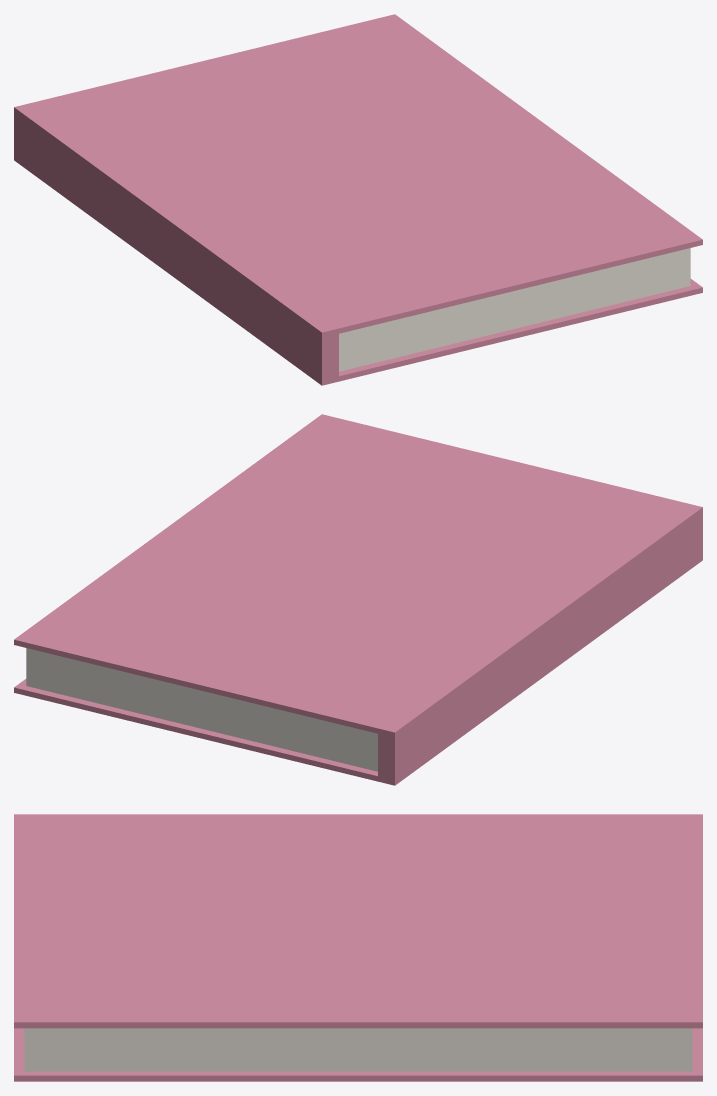
The model's file is notebook.glb.
3 views of the same model, one above another, from view 1: azimuth 30°, elevation 25°; view 2: azimuth 150°, elevation 25°; view 3: azimuth 270°, elevation 25° (orthographic). The views are drawn at different scales.
Visible parts, largest first — view 1: notebook; view 2: notebook; view 3: notebook.
Boxes of the visible parts, x1=… form: notebook: x1=14, y1=14, x2=702, y2=385; notebook: x1=14, y1=414, x2=702, y2=785; notebook: x1=14, y1=814, x2=702, y2=1081.
Size of the model in its own units: 15 by 2 by 21.
